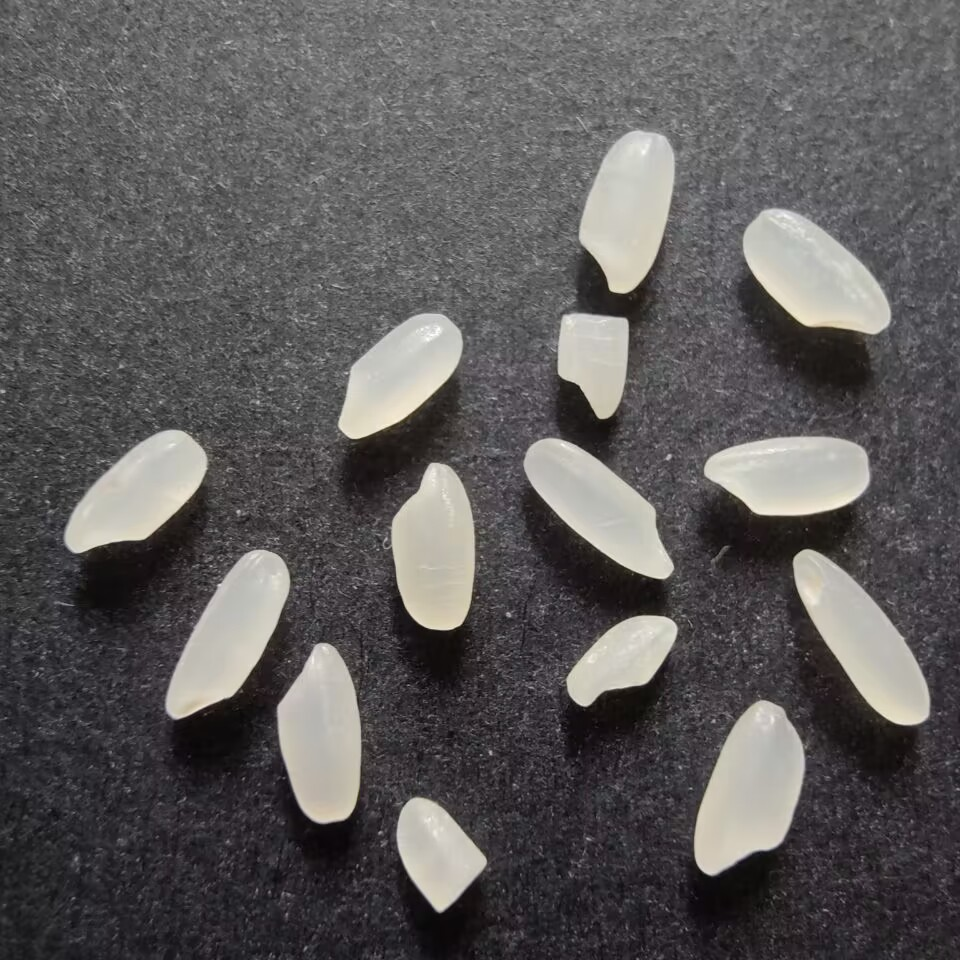broken: (563, 610, 680, 710), (393, 796, 491, 914), (552, 309, 635, 422)
rice: (786, 548, 936, 730), (518, 435, 682, 587), (159, 548, 292, 727), (689, 696, 811, 879), (738, 202, 895, 336), (60, 425, 211, 561), (271, 638, 365, 830), (333, 310, 467, 443), (572, 129, 678, 295), (385, 457, 483, 631), (695, 433, 877, 521)
